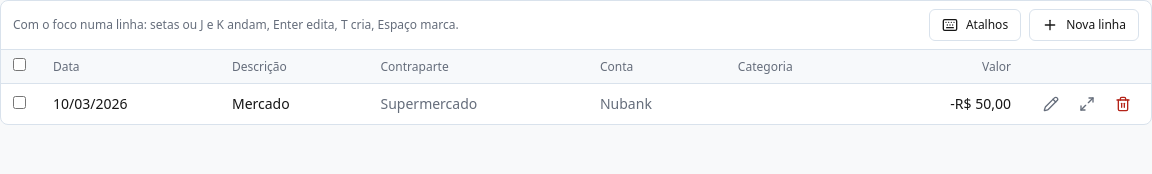
Test: o lapis edita na linha e Editar completo abre o formulario
Step 1. Click the button named "Editar completo Mercado" → [1087, 104], box [1071,88,1103,120]
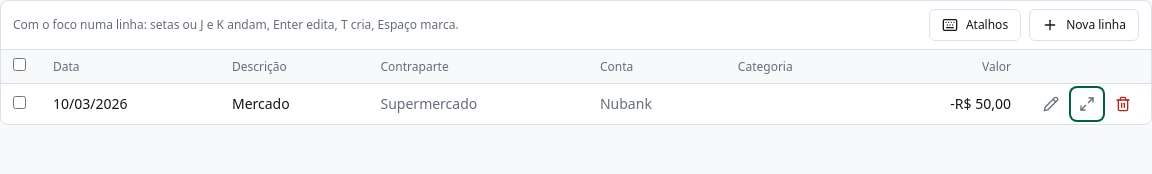
Step 2. Click the button named "Editar Mercado" → [1051, 104], box [1035,88,1067,120]
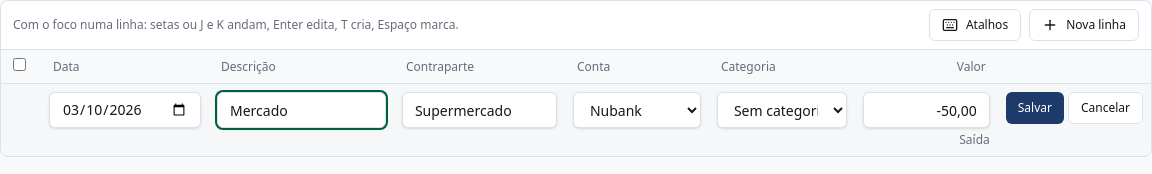
Expected: the row named "Editando Mercado" is shown, [1,84,1151,156]
